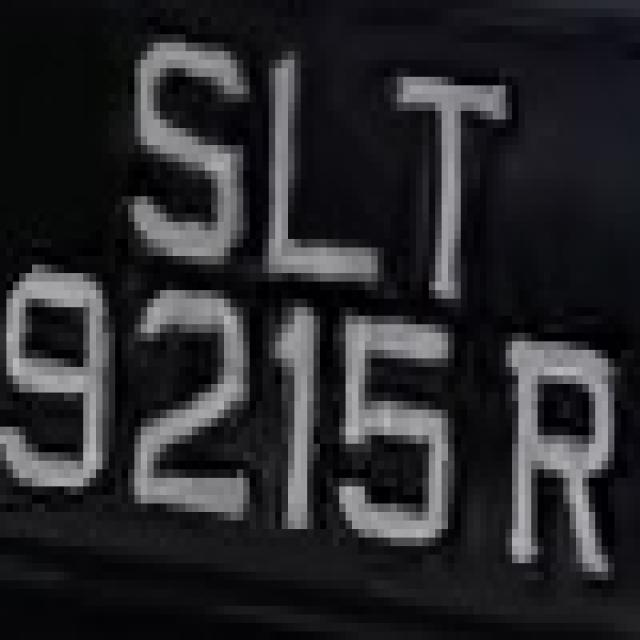1: (256, 299, 339, 580)
2: (122, 273, 250, 555)
5: (339, 298, 467, 554)
9: (6, 213, 116, 529)
L: (243, 43, 371, 324)
R: (474, 316, 627, 631)
S: (115, 9, 256, 307)
T: (371, 34, 512, 273)
